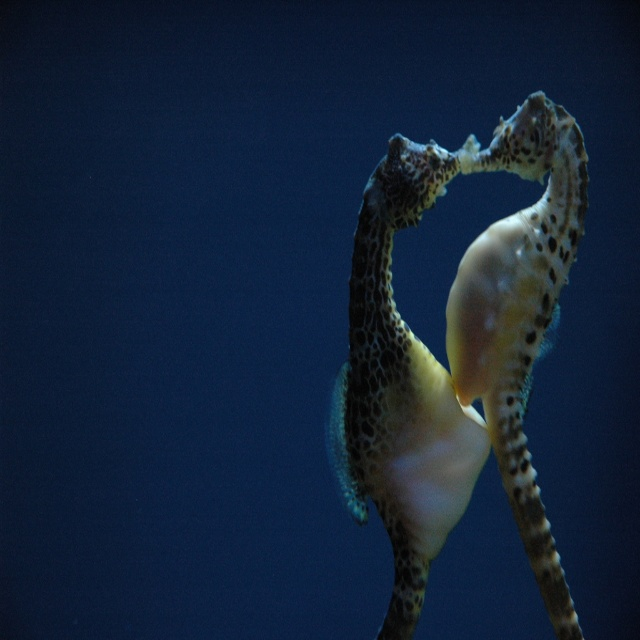Seahorse: (327, 134, 490, 640), (446, 91, 590, 640)
